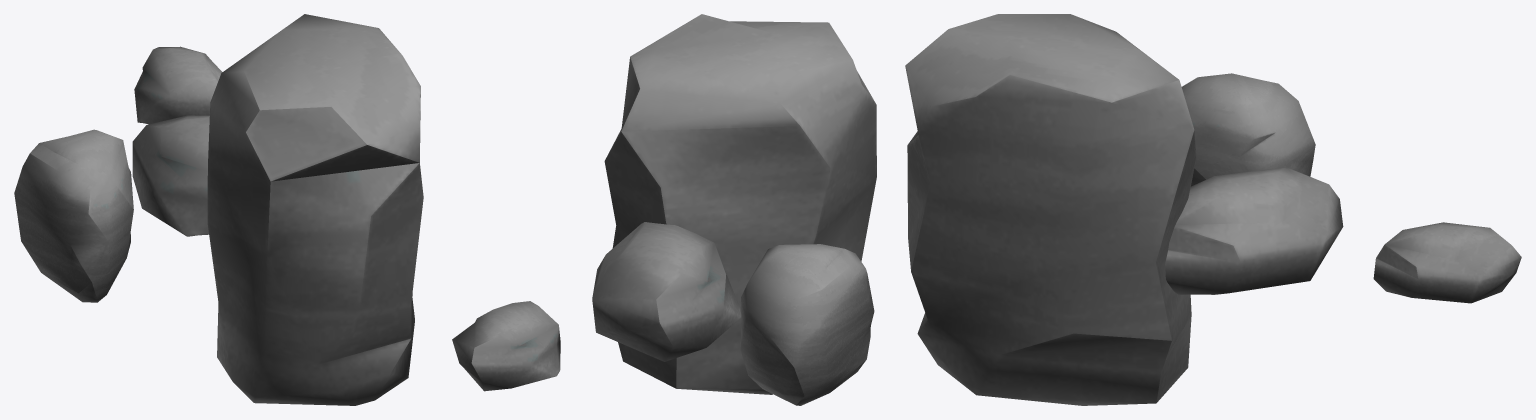
Rendered from Rocks.fbx.
3 views of the same model, side by side, from view 1: azimuth 30°, elevation 25°; view 2: azimuth 150°, elevation 25°; view 3: azimuth 270°, elevation 25° (orthographic). The views are drawn at different scales.
Parts seen in each view (by area): view 1: Rock3, Rock2, Rock, Rock1; view 2: Rock3, Rock2, Rock, Rock1; view 3: Rock3, Rock, Rock2, Rock1.
Boxes of the visible parts, left/top/right/bottom form: Rock3: left=207, top=14, right=423, bottom=405; Rock2: left=14, top=129, right=133, bottom=302; Rock: left=132, top=115, right=209, bottom=236; Rock1: left=134, top=46, right=222, bottom=124; Rock3: left=604, top=14, right=876, bottom=394; Rock2: left=740, top=244, right=874, bottom=405; Rock: left=592, top=222, right=741, bottom=361; Rock1: left=452, top=301, right=560, bottom=391; Rock3: left=905, top=14, right=1196, bottom=405; Rock: left=1165, top=167, right=1343, bottom=294; Rock2: left=1181, top=73, right=1315, bottom=186; Rock1: left=1373, top=222, right=1521, bottom=303.
Bounding box in the file's own units: 352 × 379 × 609.
